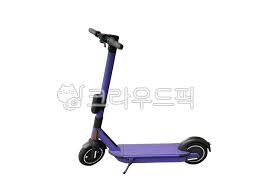kick_body: (120, 144, 180, 162)
kick_handler: (88, 28, 123, 51)
kick_wheel: (78, 141, 106, 166), (183, 136, 208, 163)
